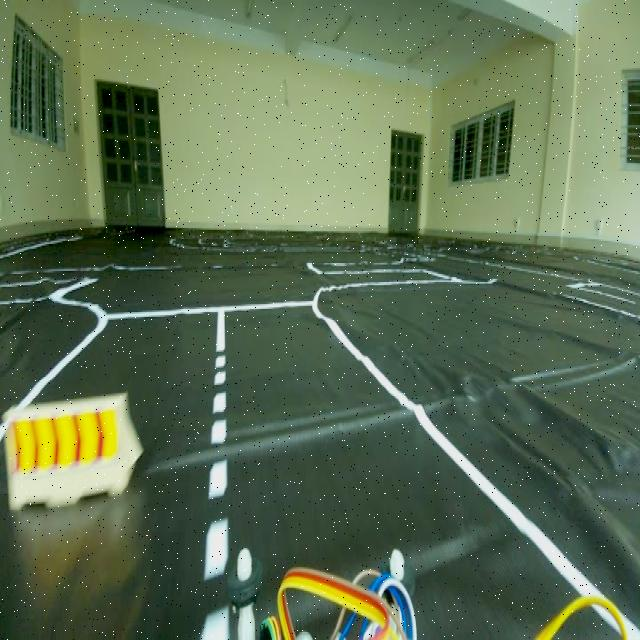roadblock: (4, 399, 128, 501)
